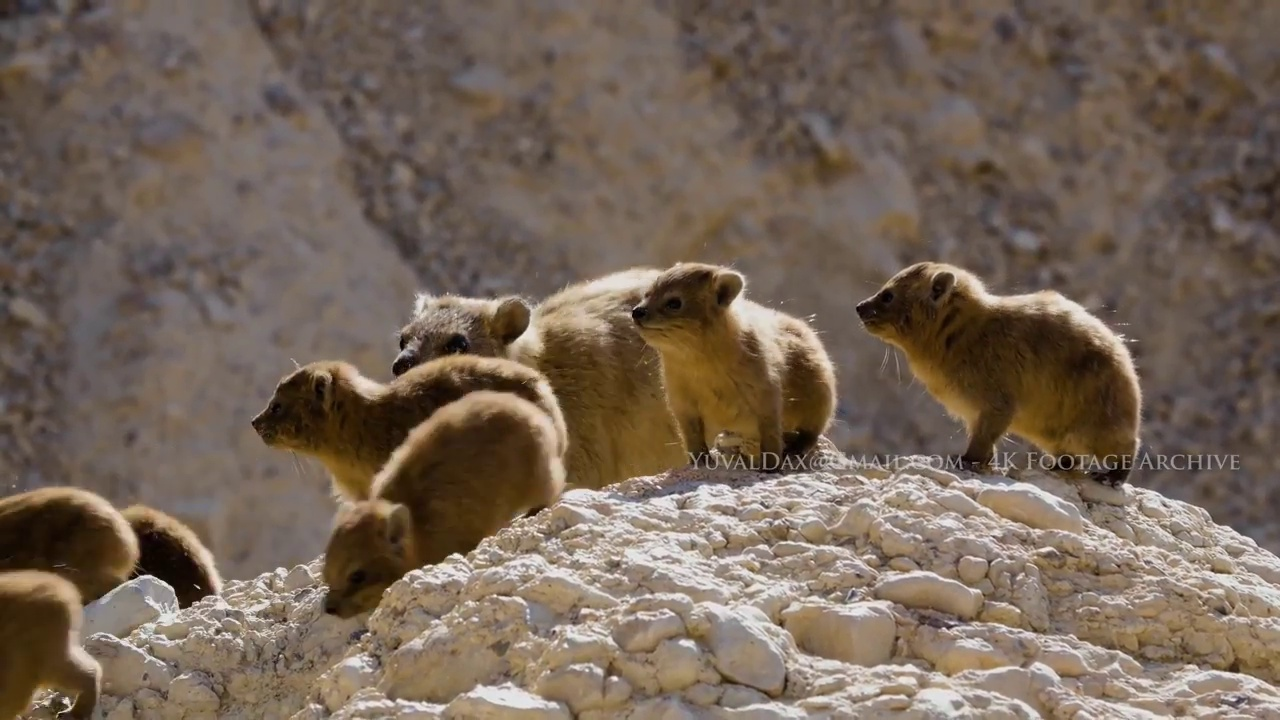Rock Hyrex: (381, 260, 757, 501), (854, 259, 1142, 497), (324, 389, 569, 616), (253, 358, 569, 513), (632, 266, 842, 483), (1, 575, 101, 720), (1, 486, 146, 580), (109, 506, 221, 604)
